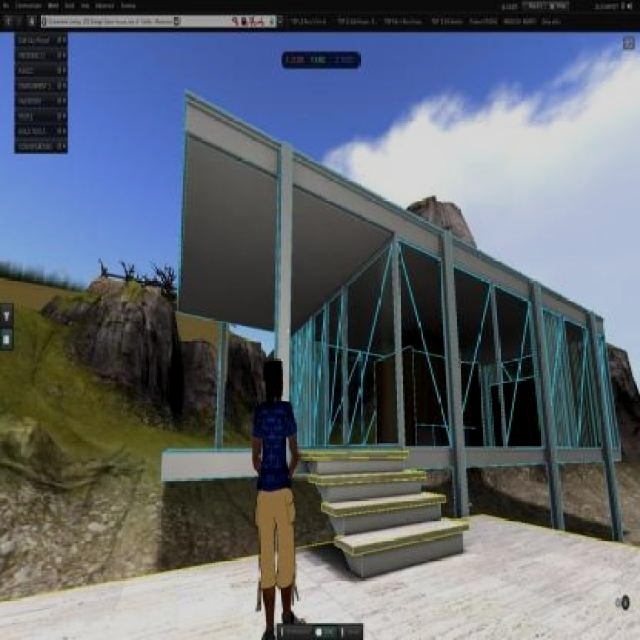stair: (299, 451, 470, 577)
